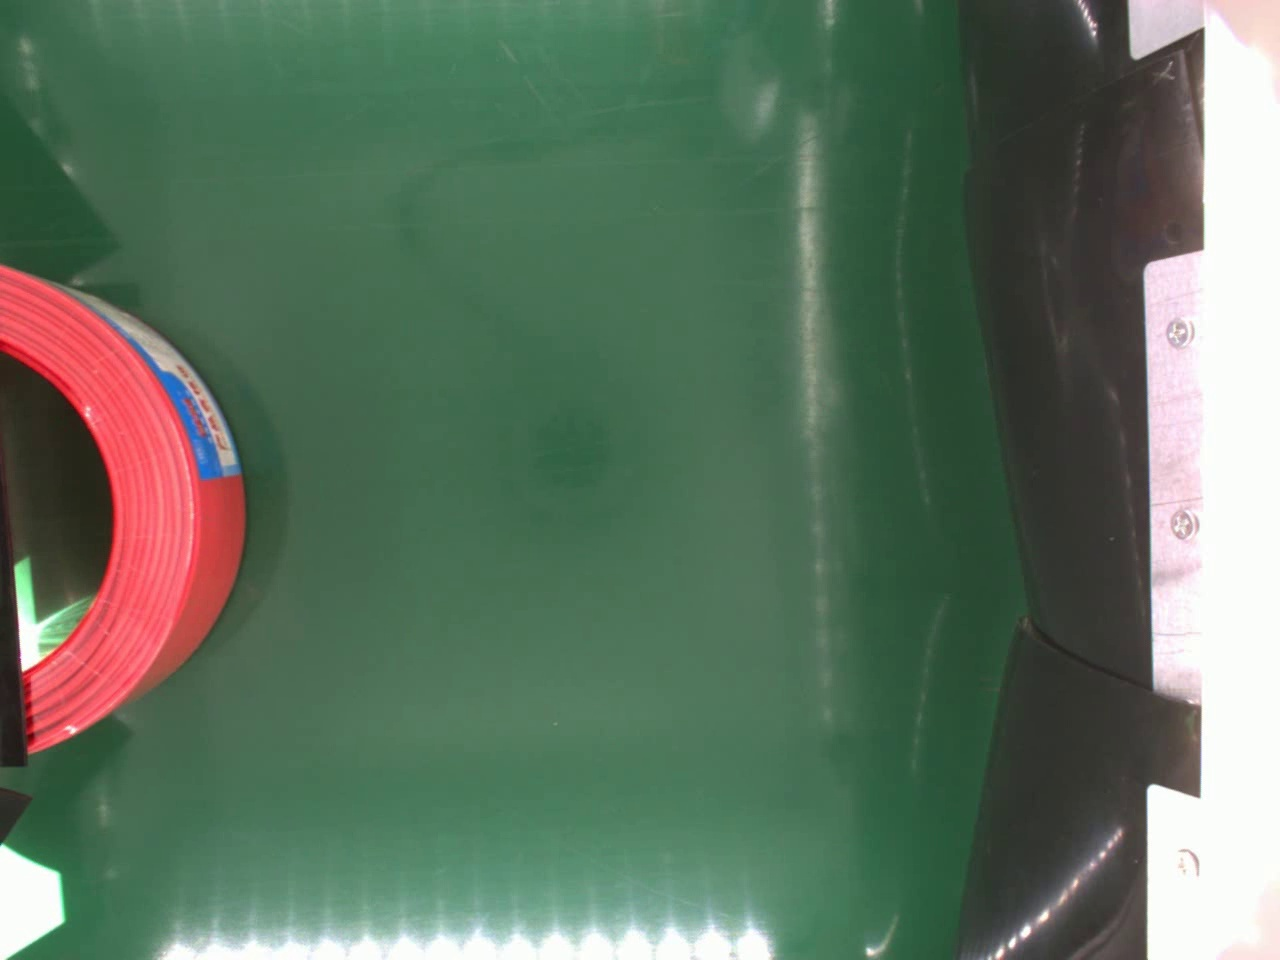red: (0, 268, 250, 754)
